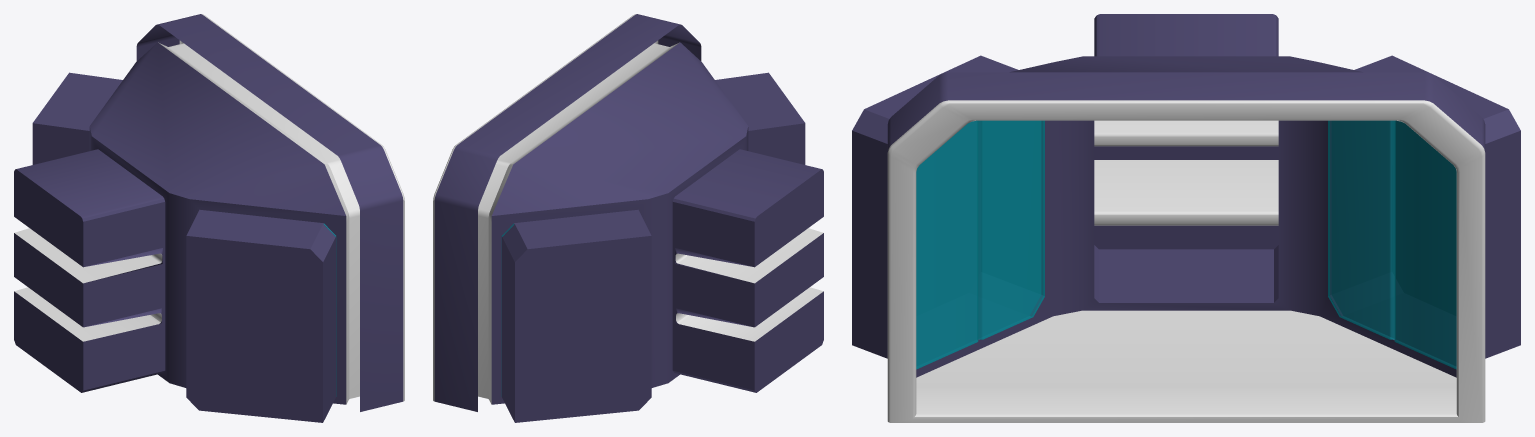
The model's file is Mh_Wardrobe.fbx.
The picture shows the model from 3 angles, left to right: view 1: azimuth 30°, elevation 25°; view 2: azimuth 150°, elevation 25°; view 3: azimuth 270°, elevation 25°; orthographic projection. The views are drawn at different scales.
Parts seen in each view (by area): view 1: Mh_Wardrobe; view 2: Mh_Wardrobe; view 3: Mh_Wardrobe.
Part boxes in pixels (bbox=[...]): Mh_Wardrobe: bbox=[14, 14, 404, 422]; Mh_Wardrobe: bbox=[433, 14, 823, 422]; Mh_Wardrobe: bbox=[852, 14, 1520, 422].
Size of the model in its own units: 330 by 309 by 583.
